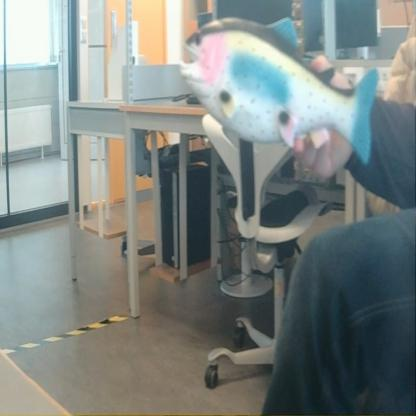rubberfish: (177, 5, 381, 170)
